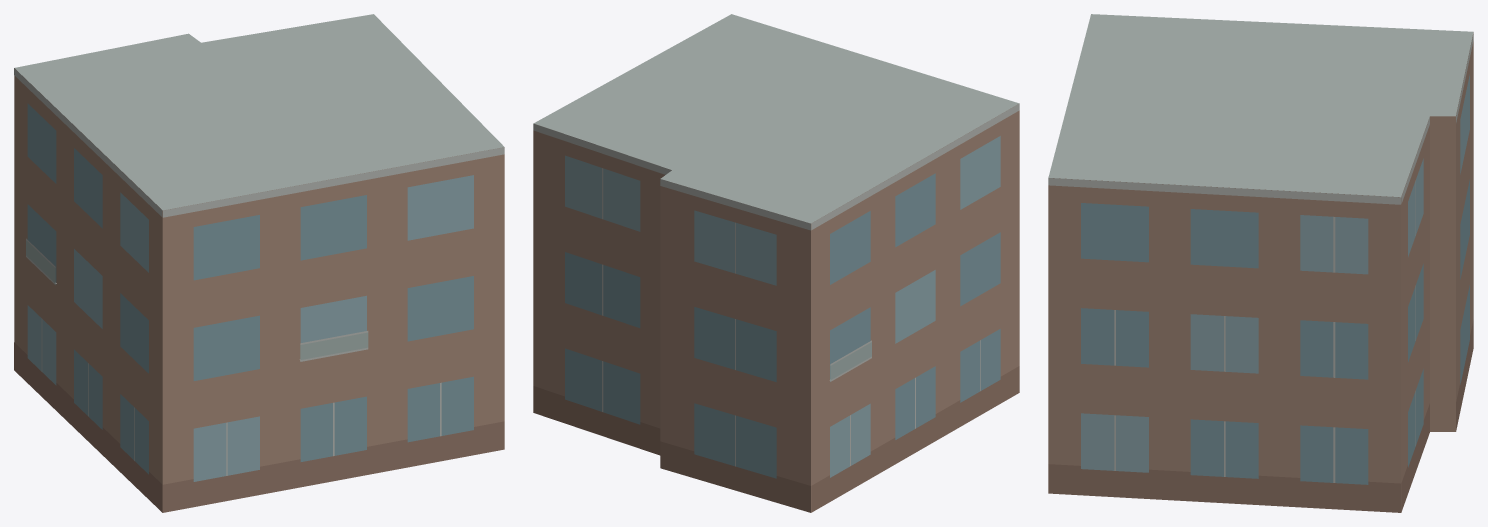
The model's file is survey-upis-32633898.glb.
3 views of the same model, side by side, from view 1: azimuth 30°, elevation 25°; view 2: azimuth 150°, elevation 25°; view 3: azimuth 270°, elevation 25° (orthographic). The views are drawn at different scales.
Parts seen in each view (by area): view 1: survey-upis-32633898.tmp; view 2: survey-upis-32633898.tmp; view 3: survey-upis-32633898.tmp.
Boxes of the visible parts, left/top/right/bottom form: survey-upis-32633898.tmp: left=14, top=14, right=504, bottom=512; survey-upis-32633898.tmp: left=533, top=14, right=1019, bottom=512; survey-upis-32633898.tmp: left=1048, top=14, right=1473, bottom=512.
Size of the model in its own units: 12.58 by 10.1 by 12.34.
